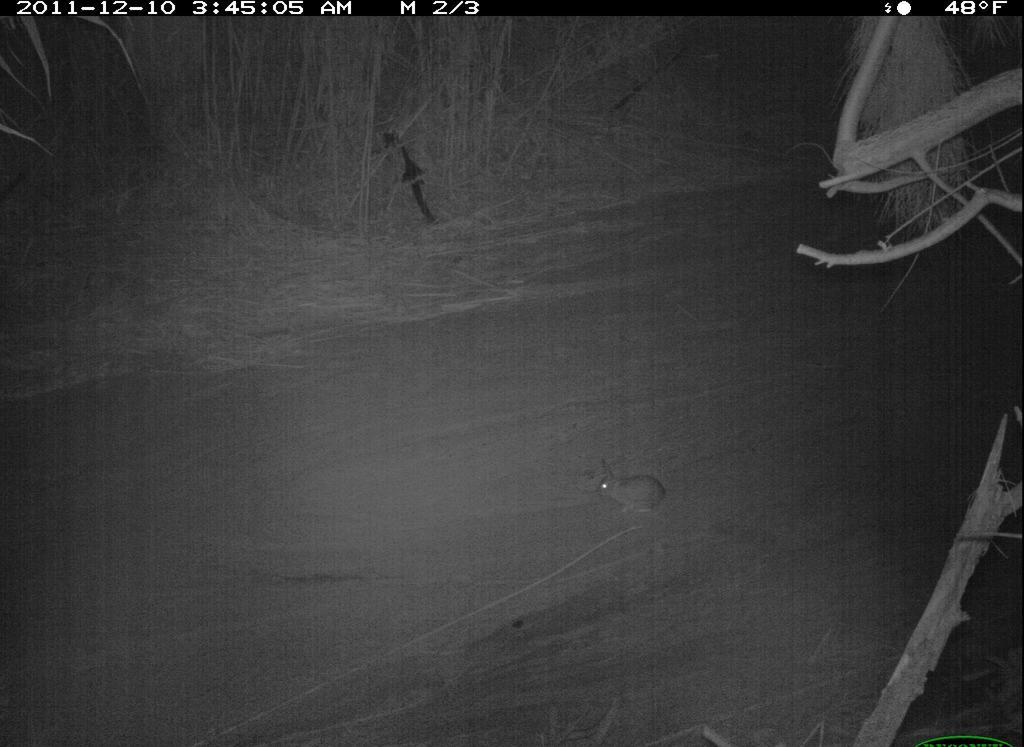rabbit: (583, 452, 674, 523)
